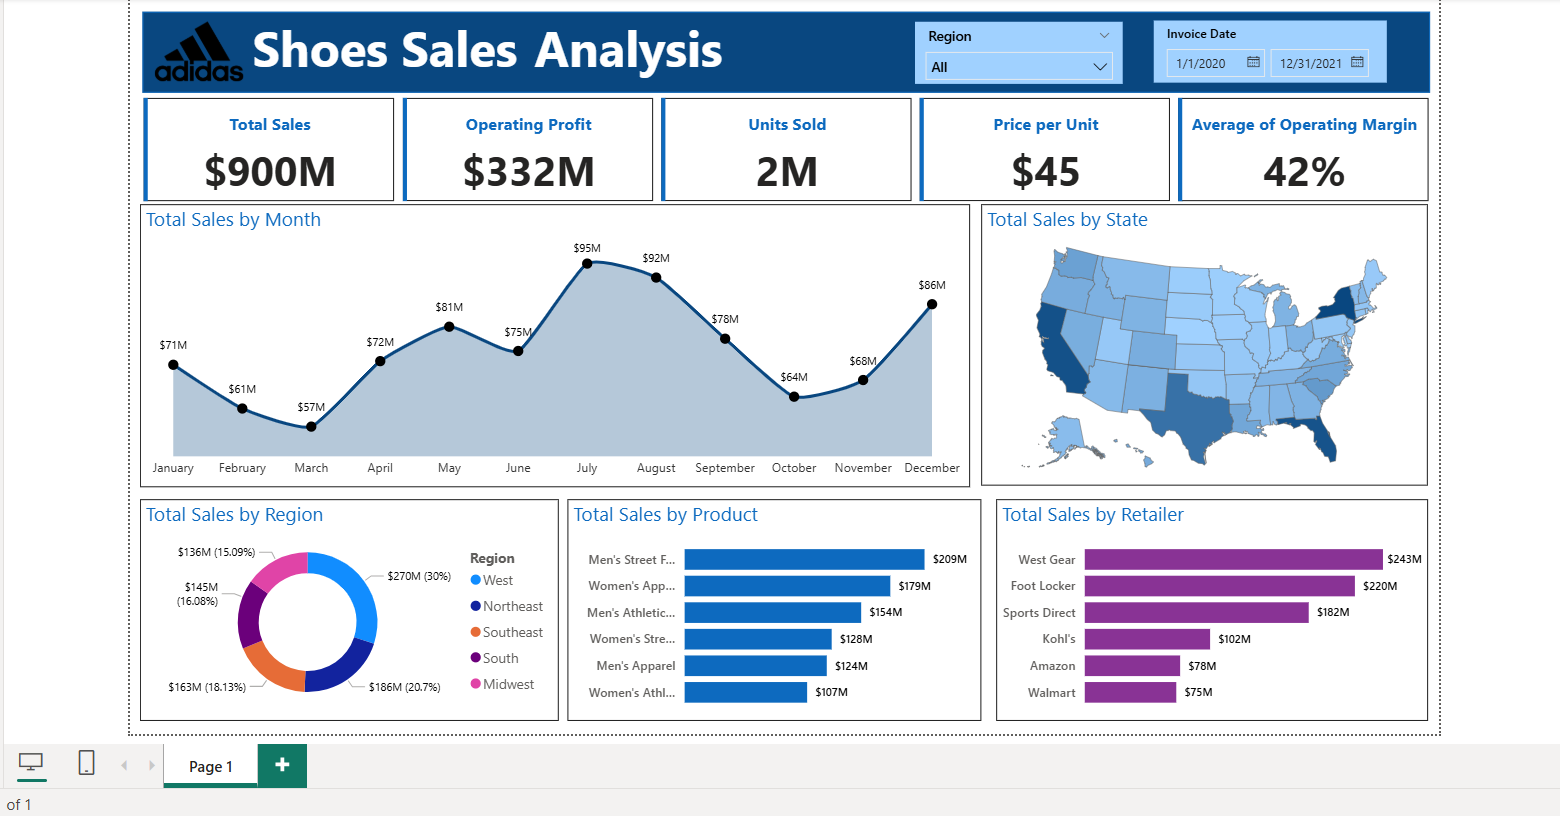

The dashboard page shown, as its layout file describes it:
{"tool":"powerbi","page":{"name":"Page 1","canvas":[1280,720],"ordinal":0},"visuals":[{"type":"shape","box":[12.3,13.8,1260,79.2],"z":0},{"type":"textbox","box":[115.4,11.5,667.7,101.5],"z":1000},{"type":"cardVisual","fields":{"Data":["Sum(Data Sales Adidas.Total Sales)","Sum(Data Sales Adidas.Operating Profit)","Sum(Data Sales Adidas.Units Sold)","Avg(Data Sales Adidas.Price per Unit)","Avg(Data Sales Adidas.Operating Margin)"]},"box":[8.6,92.9,1268.1,111.3],"z":2000},{"type":"areaChart","title":"Total Sales by Month","fields":{"Category":["Data Sales Adidas.Invoice Date.Variation.Date Hierarchy.Month"],"Y":["Sum(Data Sales Adidas.Total Sales)"]},"box":[10.1,202,812.3,277],"z":3000},{"type":"donutChart","title":"Total Sales by Region","fields":{"Category":["Data Sales Adidas.Region"],"Y":["Sum(Data Sales Adidas.Total Sales)"]},"box":[10.1,490.5,409.7,216.4],"z":4000},{"type":"shapeMap","title":"Total Sales by State","fields":{"Category":["Data Sales Adidas.State"],"Value":["Sum(Data Sales Adidas.Total Sales)"]},"box":[832.5,202,437.2,275.6],"z":5000},{"type":"barChart","fields":{"Category":["Data Sales Adidas.Product"],"Y":["Sum(Data Sales Adidas.Total Sales)"]},"box":[428.5,490.5,405,216.4],"z":6000},{"type":"barChart","fields":{"Y":["Sum(Data Sales Adidas.Total Sales)"],"Category":["Data Sales Adidas.Retailer"]},"box":[846.9,490.5,422.7,216.4],"z":7000},{"type":"slicer","fields":{"Values":["Data Sales Adidas.Region"]},"box":[767.5,23.1,203.4,60.6],"z":8000},{"type":"slicer","fields":{"Values":["Data Sales Adidas.Invoice Date"]},"box":[1001.3,21.6,228,60.6],"z":9000},{"type":"image","box":[19.2,11.5,96.2,83.1],"z":10000}]}

Visuals, with their boxes on the page's 1280x720 design canvas (x1, y1, x2, y2). These are canvas units, not pixel positions in the 1560x816 screenshot, which may show the page scaled, cropped or inside an application window:
shape: 12:14:1272:93
textbox: 115:12:783:113
cardVisual - Sum(Data Sales Adidas.Total Sales) x Sum(Data Sales Adidas.Operating Profit): 9:93:1277:204
"Total Sales by Month" areaChart: 10:202:822:479
"Total Sales by Region" donutChart: 10:490:420:707
"Total Sales by State" shapeMap: 832:202:1270:478
barChart - Data Sales Adidas.Product x Sum(Data Sales Adidas.Total Sales): 428:490:834:707
barChart - Sum(Data Sales Adidas.Total Sales) x Data Sales Adidas.Retailer: 847:490:1270:707
slicer - Data Sales Adidas.Region: 768:23:971:84
slicer - Data Sales Adidas.Invoice Date: 1001:22:1229:82
image: 19:12:115:95
